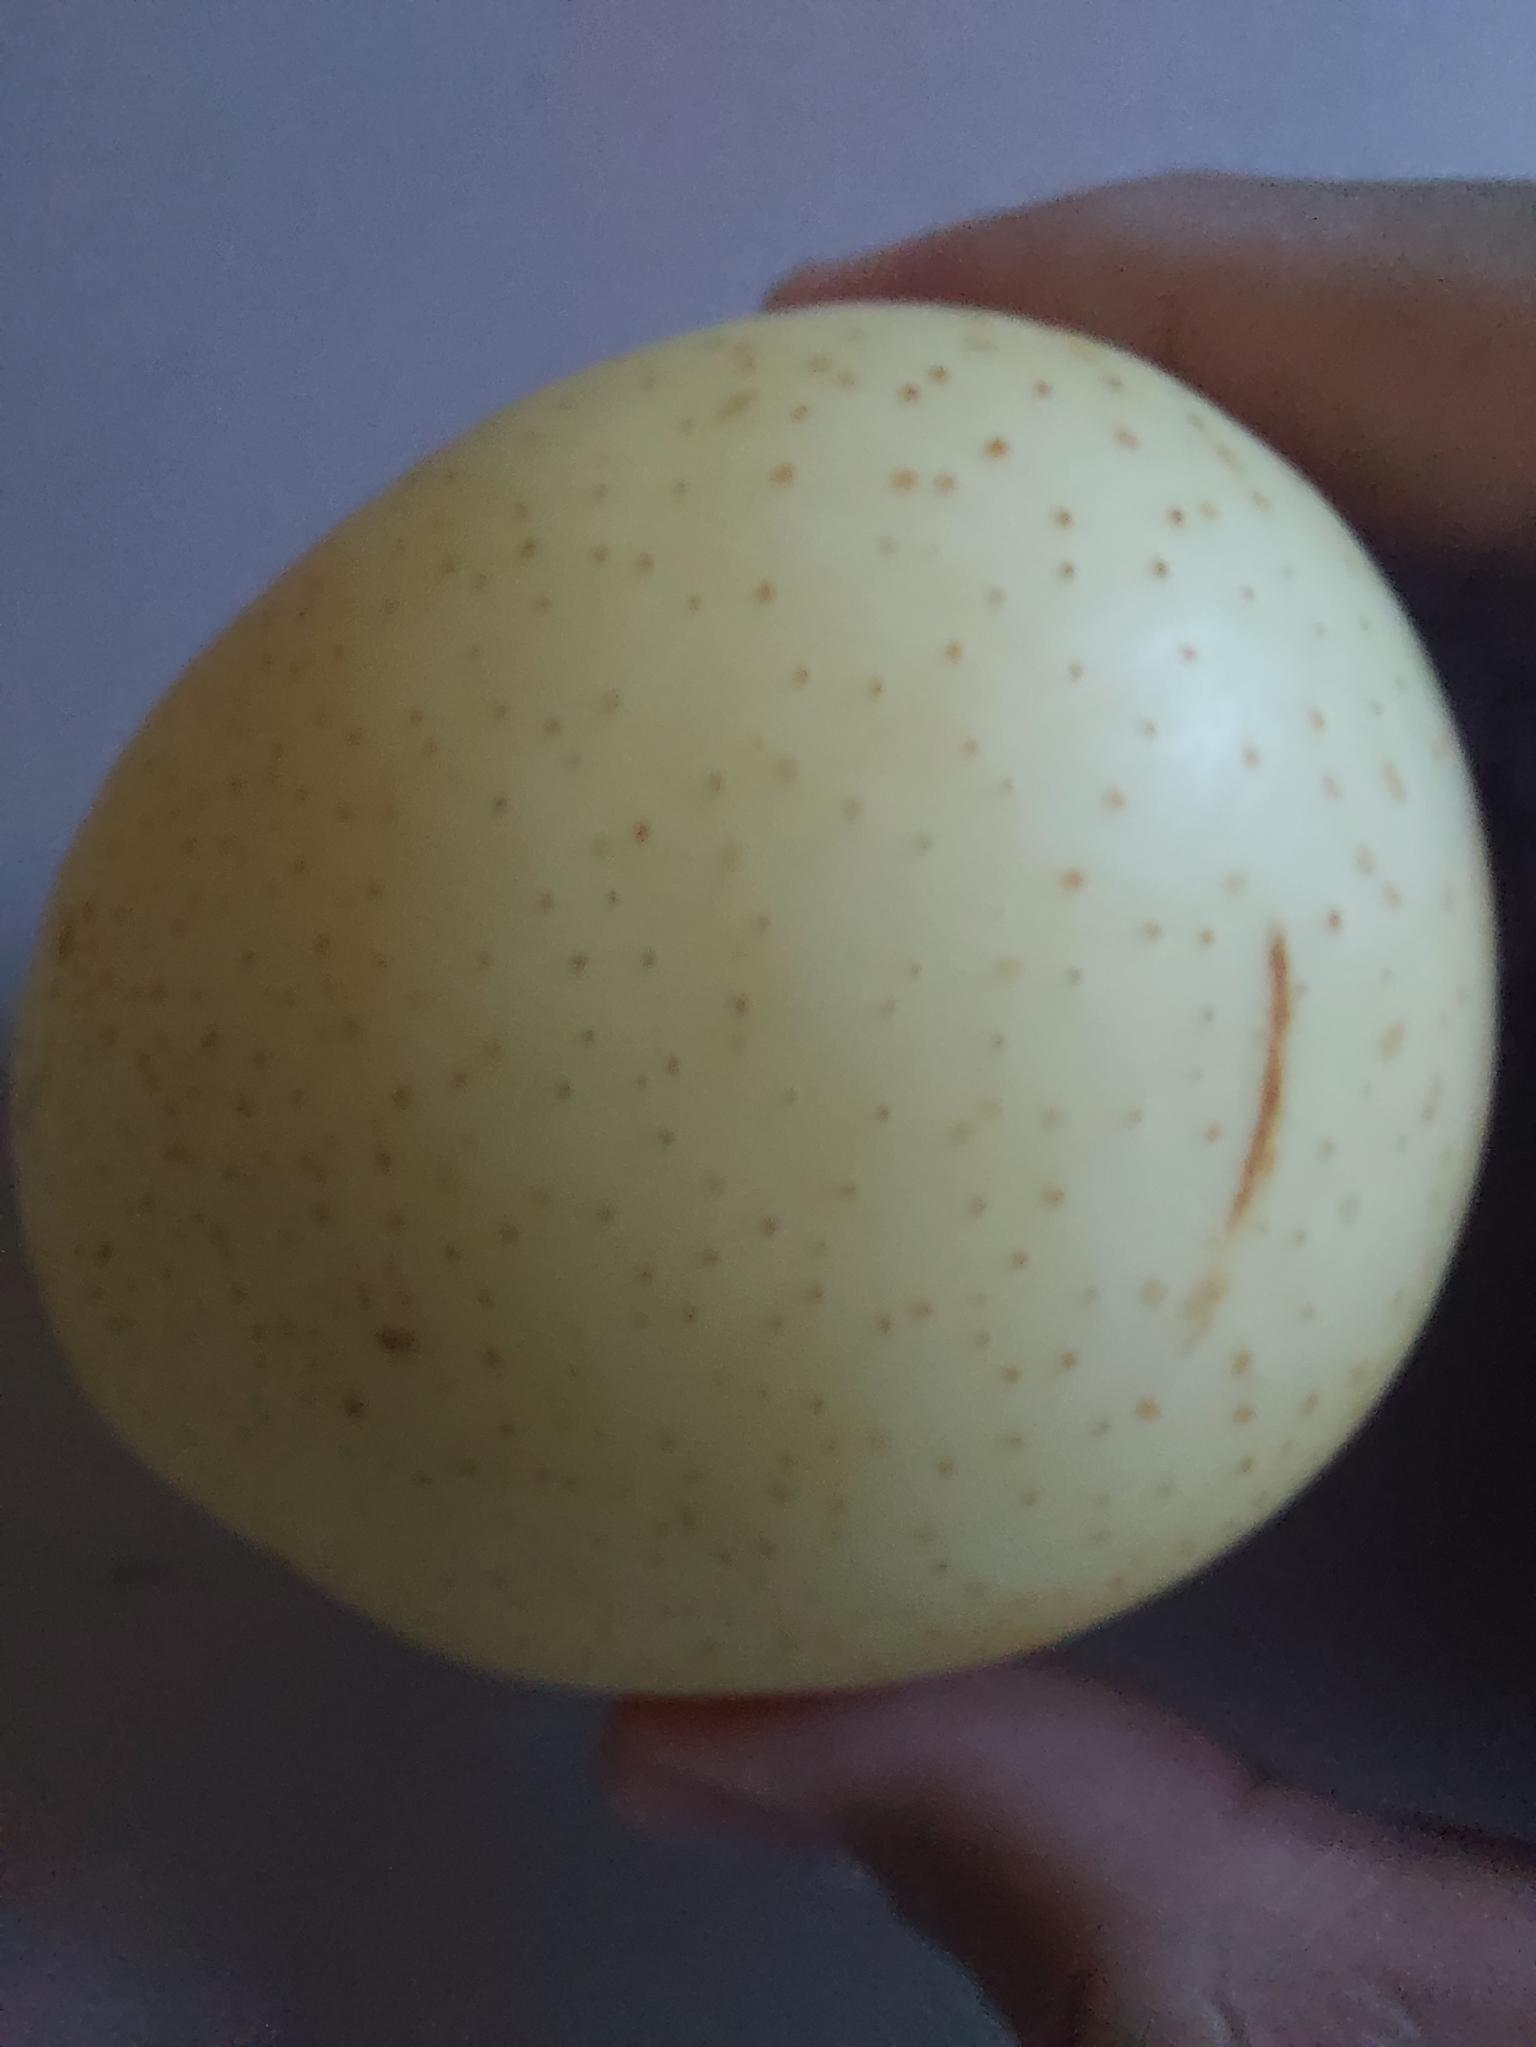Good Pear: (16, 303, 1517, 1694)
